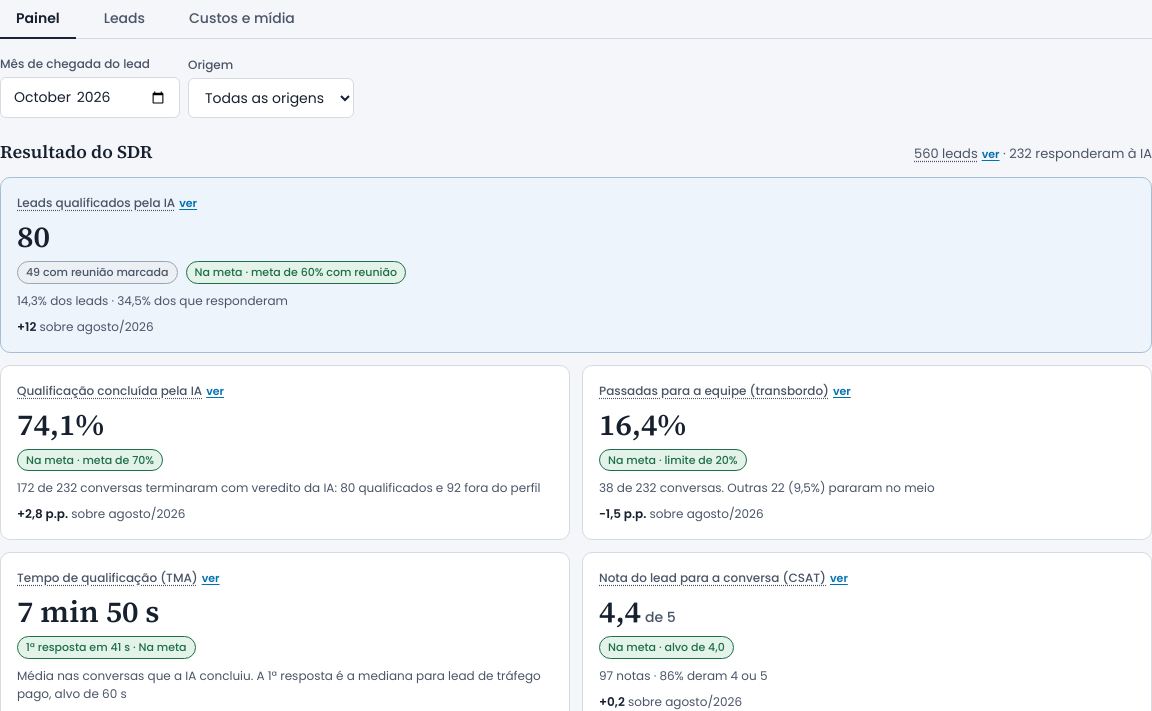
Test: painel › cada número tem a explicação e 'ver' com os leads que o compõem (10/10/2026)
Click the button with aria-label "Ver composição: Leads qualificados pela IA" at (188,203), box [179, 195, 197, 212]
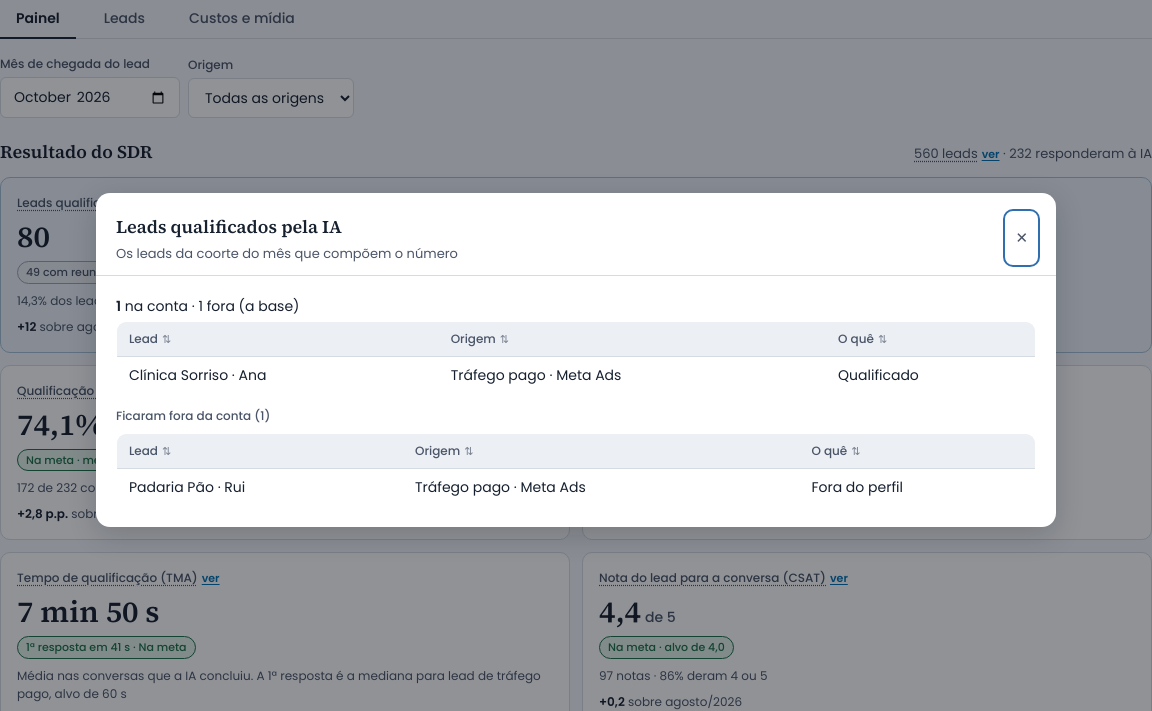
Check: the text "Clínica Sorriso · Ana" is shown, box [116, 357, 439, 395]
Check: the heading "Ficaram fora da conta (1)" is shown, box [116, 407, 270, 424]
